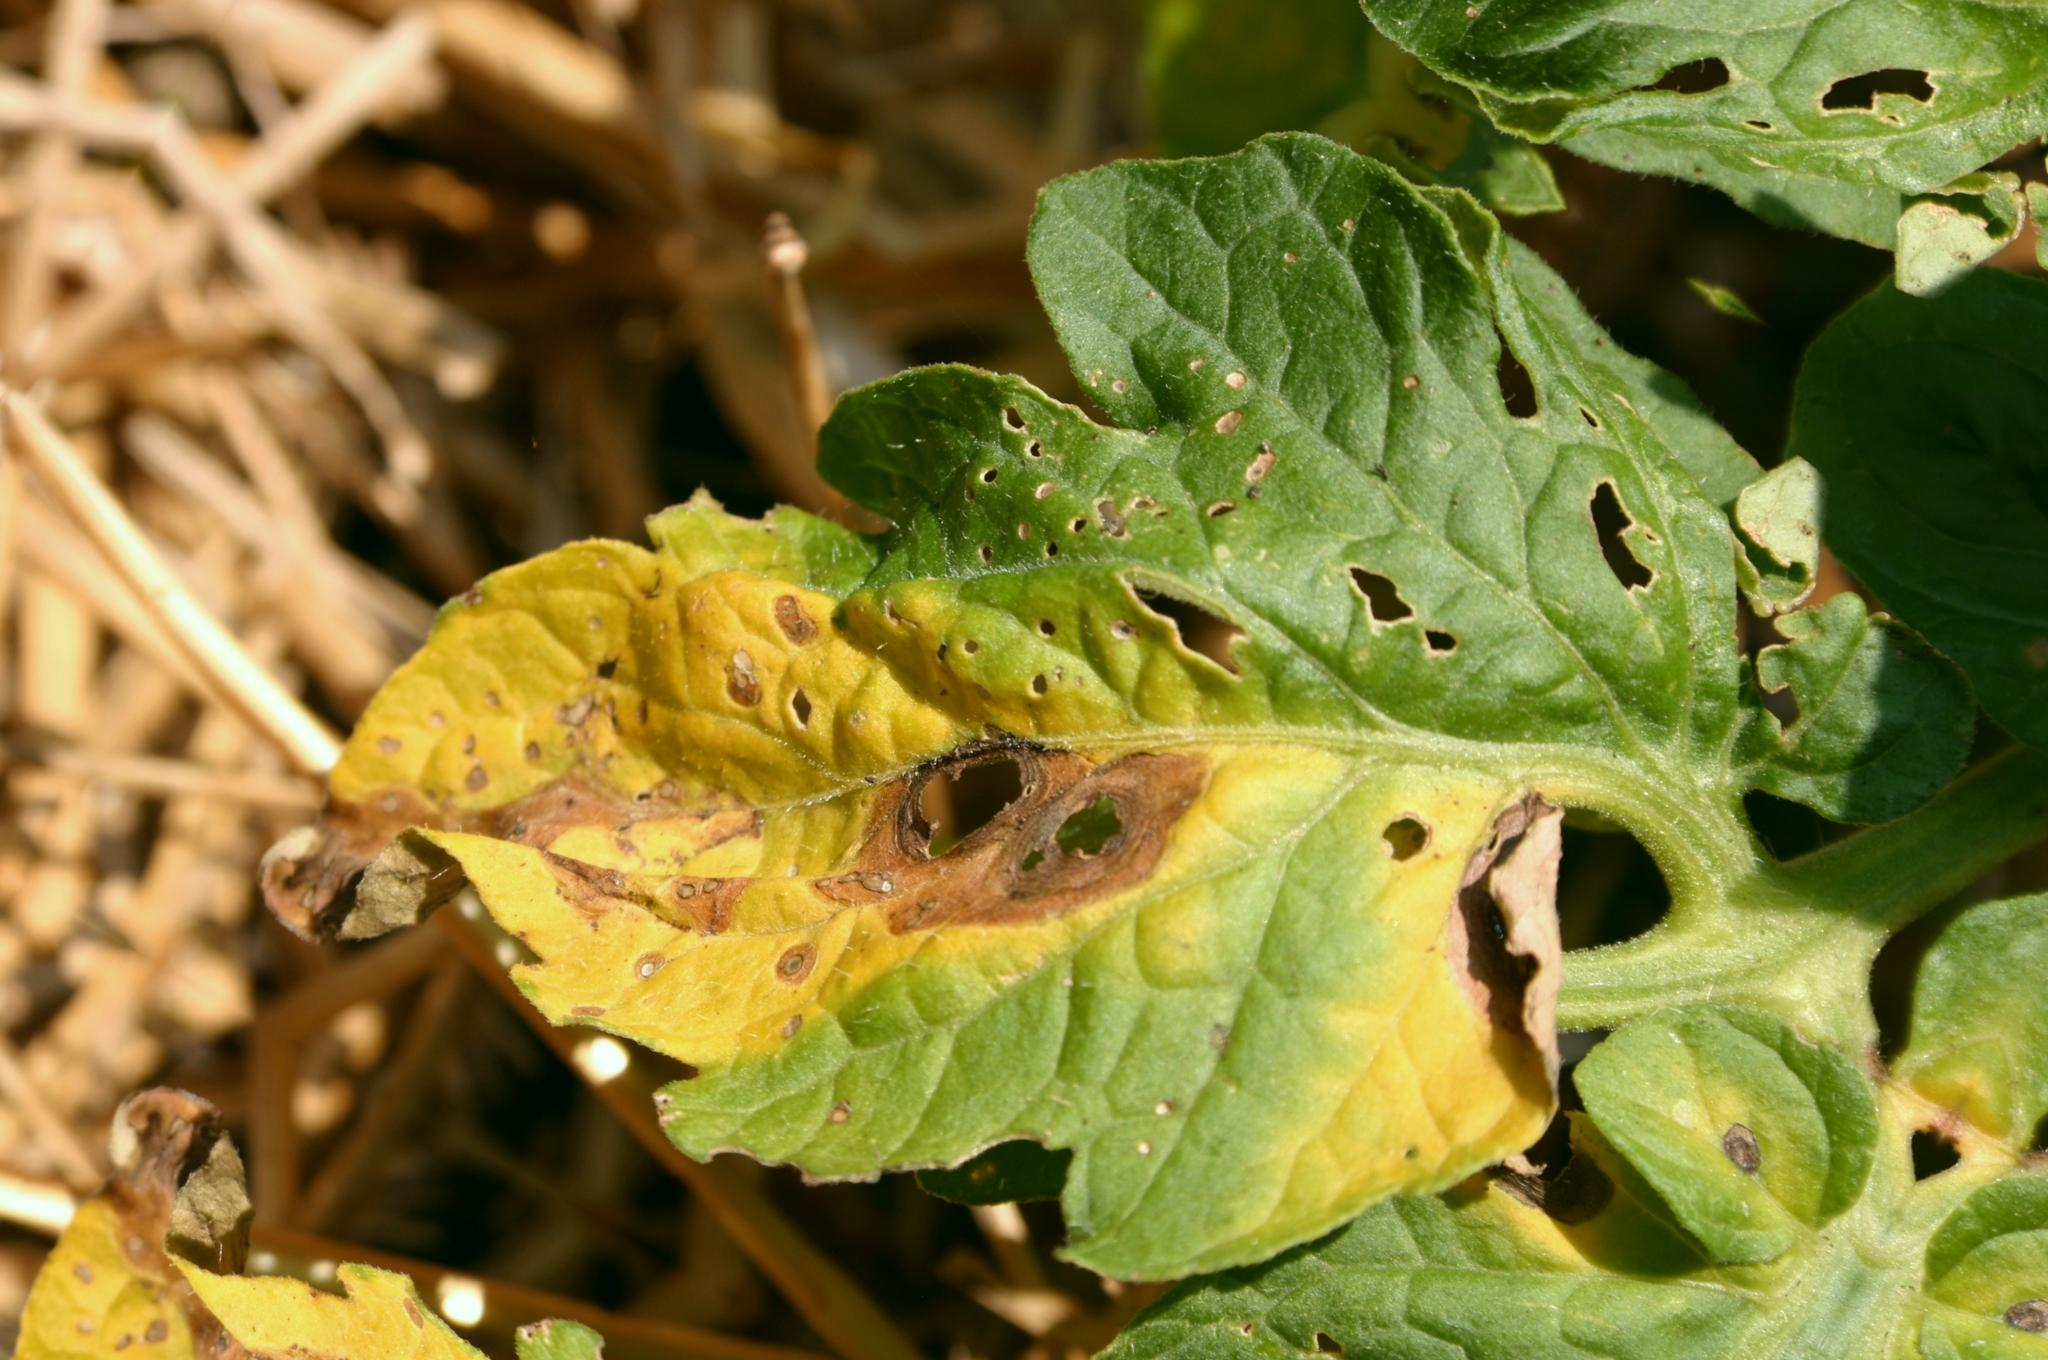Tomato Early blight leaf: (191, 0, 1759, 1360)
